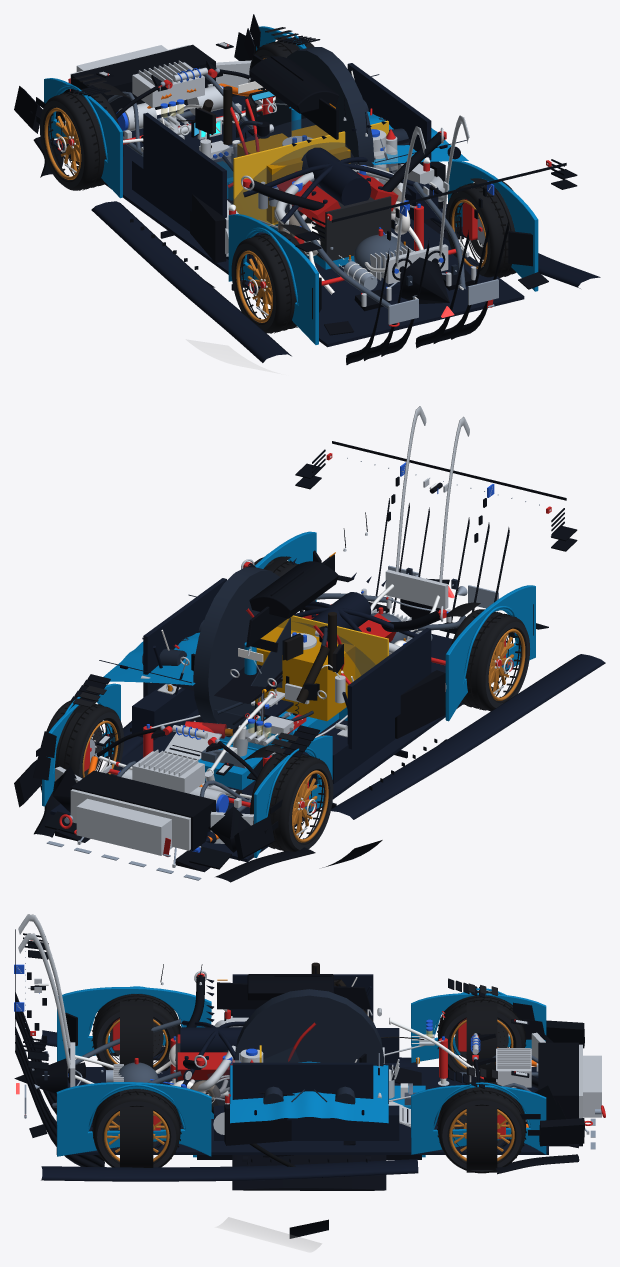
File: full_modular_car_assembly.glb
3 renders of one model, top to bottom at view 1: azimuth 30°, elevation 25°; view 2: azimuth 150°, elevation 25°; view 3: azimuth 270°, elevation 25°, orthographic. The views are drawn at different scales.
Parts seen in each view (by area): view 1: Underbody_Aerodynamics_Venturi_Assembly, Chassis_Sills_Doors_Extinguisher_Assembly, Powertrain_Bay_Detailed_Assembly, Tire_Seamless_Radial_Casing (×3), Block04_ProductionSculptedHood, Rear_Window_Assembly, Tire_Assembly_HighDetail (×3), Rear_Fender_LH, Fuel_Cell_Refueling_System_Assembly, Inconel_Exhaust_Headers_Assembly, Diffuser_Strakes_Rain_Light_Assembly, Hybrid_KERS_Inverter_Assembly (+34 smaller); view 2: Chassis_Sills_Doors_Extinguisher_Assembly, Underbody_Aerodynamics_Venturi_Assembly, Block04_ProductionSculptedHood, Tire_Seamless_Radial_Casing (×3), Fuel_Cell_Refueling_System_Assembly, Front_Chromoly_Subframe_Cradle, Rear_Fender_LH, Tire_Assembly_HighDetail (×3), Auxiliary_Coolers_Ducting_Assembly, Roof_Ram_Air_Snorkel_Assembly, Hybrid_KERS_Inverter_Assembly, Wheel_Rim_Assembly_HighDetail (×2) (+30 smaller); view 3: Block04_ProductionSculptedHood, Underbody_Aerodynamics_Venturi_Assembly, Chassis_Sills_Doors_Extinguisher_Assembly, Rear_Fender_RH, Tire_Seamless_Radial_Casing (×4), Front_Fender_RH, Rear_Fender_LH, Tire_Assembly_HighDetail (×4), Front_Fender_LH, FrontSplitter_Assembly, Powertrain_Bay_Detailed_Assembly, Auxiliary_Coolers_Ducting_Assembly (+23 smaller).
Part boxes in pixels (x1,y1,x2,y2): Underbody_Aerodynamics_Venturi_Assembly: [50, 95, 600, 362]; Chassis_Sills_Doors_Extinguisher_Assembly: [132, 63, 438, 262]; Powertrain_Bay_Detailed_Assembly: [275, 144, 410, 260]; Tire_Seamless_Radial_Casing (×3): [42, 88, 516, 333]; Block04_ProductionSculptedHood: [275, 47, 468, 173]; Rear_Window_Assembly: [211, 118, 411, 225]; Tire_Assembly_HighDetail (×3): [40, 90, 514, 333]; Rear_Fender_LH: [228, 214, 324, 344]; Fuel_Cell_Refueling_System_Assembly: [237, 125, 446, 223]; Inconel_Exhaust_Headers_Assembly: [233, 120, 423, 294]; Diffuser_Strakes_Rain_Light_Assembly: [346, 219, 508, 364]; Hybrid_KERS_Inverter_Assembly: [116, 60, 223, 131]; Chassis_Sills_Doors_Extinguisher_Assembly: [132, 578, 431, 783]; Underbody_Aerodynamics_Venturi_Assembly: [50, 630, 605, 862]; Block04_ProductionSculptedHood: [99, 567, 279, 729]; Tire_Seamless_Radial_Casing (×3): [46, 609, 527, 851]; Fuel_Cell_Refueling_System_Assembly: [241, 559, 446, 721]; Front_Chromoly_Subframe_Cradle: [76, 761, 251, 855]; Rear_Fender_LH: [445, 585, 535, 721]; Tire_Assembly_HighDetail (×3): [53, 609, 529, 851]; Auxiliary_Coolers_Ducting_Assembly: [71, 770, 215, 850]; Roof_Ram_Air_Snorkel_Assembly: [249, 561, 338, 618]; Hybrid_KERS_Inverter_Assembly: [118, 749, 228, 812]; Wheel_Rim_Assembly_HighDetail (×2): [292, 628, 525, 842]; Block04_ProductionSculptedHood: [229, 989, 388, 1123]; Underbody_Aerodynamics_Venturi_Assembly: [41, 1030, 548, 1181]; Chassis_Sills_Doors_Extinguisher_Assembly: [214, 974, 410, 1140]; Rear_Fender_RH: [56, 1082, 211, 1167]; Tire_Seamless_Radial_Casing (×4): [93, 991, 525, 1173]; Front_Fender_RH: [411, 1066, 546, 1172]; Rear_Fender_LH: [57, 986, 211, 1068]; Tire_Assembly_HighDetail (×4): [91, 992, 526, 1171]; Front_Fender_LH: [411, 983, 546, 1082]; FrontSplitter_Assembly: [232, 1155, 386, 1190]; Powertrain_Bay_Detailed_Assembly: [169, 1025, 242, 1106]; Auxiliary_Coolers_Ducting_Assembly: [538, 1042, 578, 1118].
Size of the model in its own units: 2.75 by 2.73 by 4.63.
